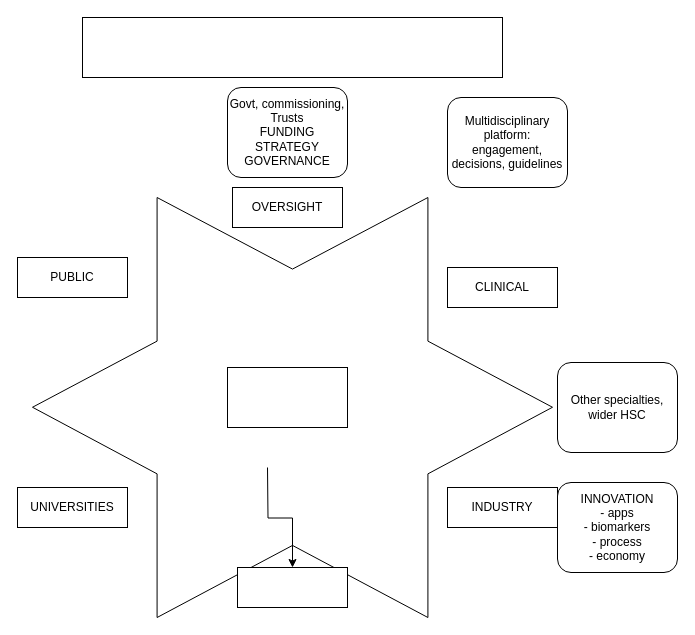
This 695x635 diagram has some shape labels left out. Each missing label, with the centre of its shape:
"INFORMATICS" belongs at point (287, 397).
"LABS Molecular Diagnostics" belongs at point (292, 587).
"NI GENOMICS & Precision Medicine TARGET ARCHITECTURE" belongs at point (292, 47).
